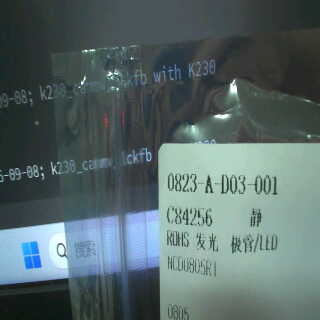LED: (195, 231, 281, 253)
